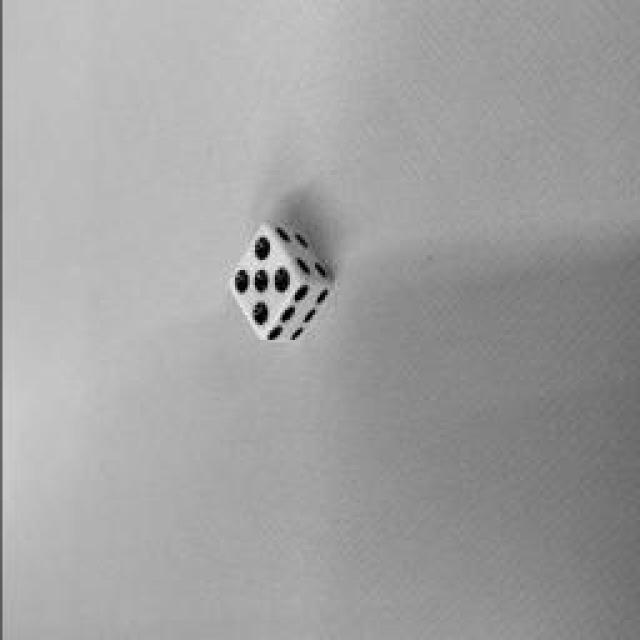dice_5: (229, 222, 299, 340)
